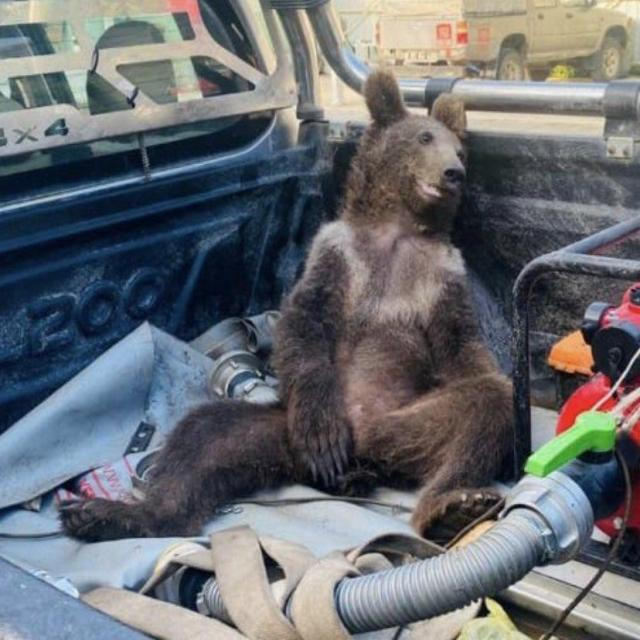Bear: (55, 72, 519, 545)
